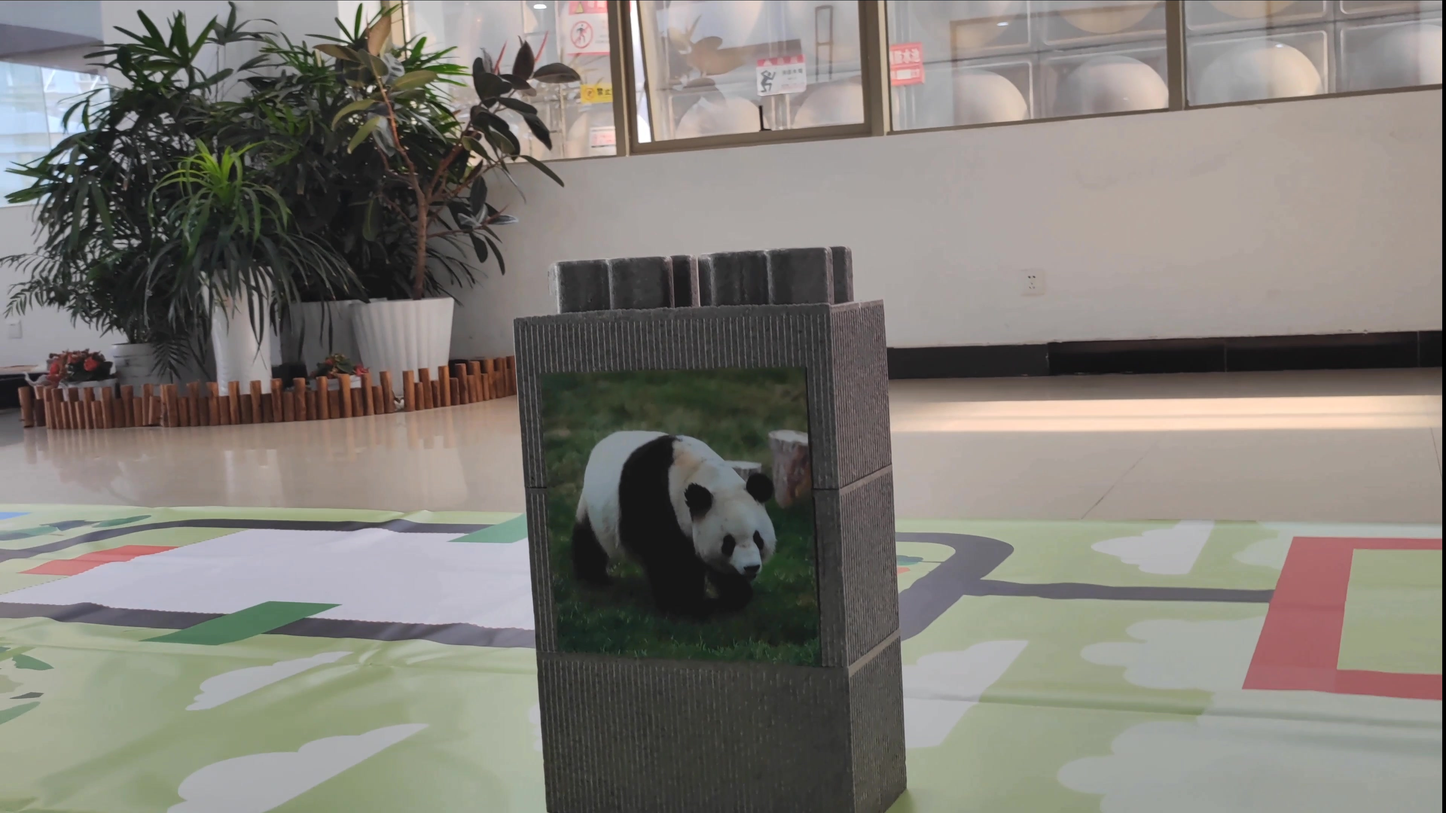panda: (544, 367, 801, 655)
